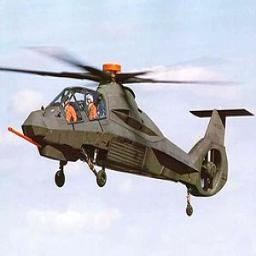helicopter: (2, 48, 256, 222)
